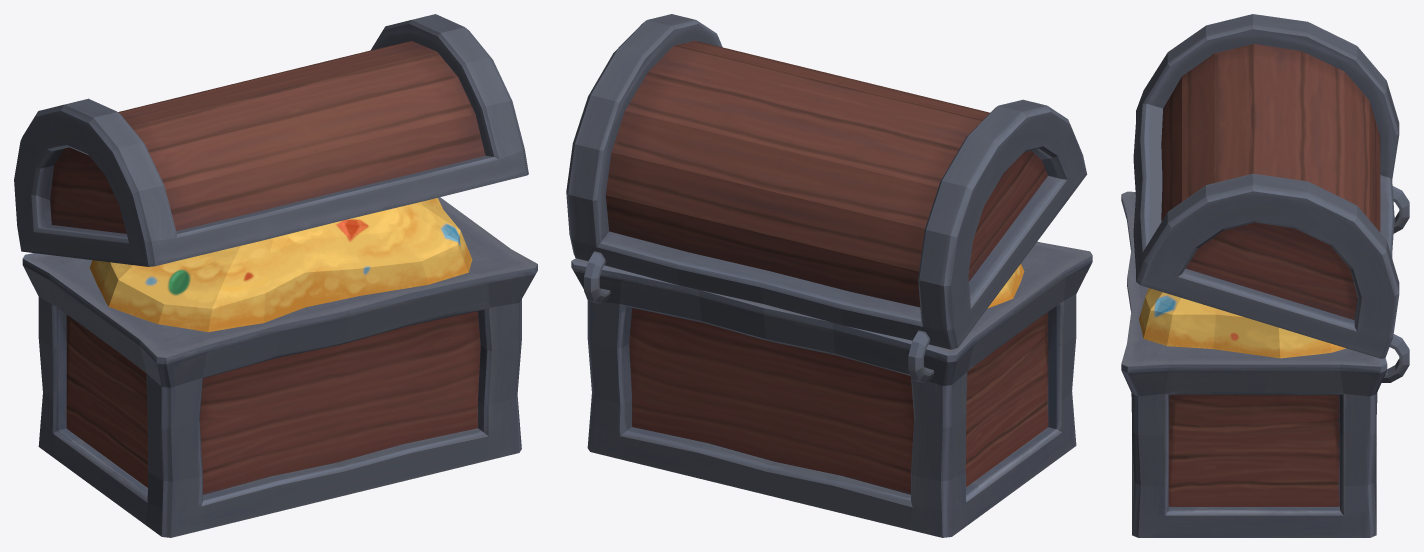
The model's file is Chest.fbx.
The picture shows the model from 3 angles, left to right: view 1: azimuth 30°, elevation 25°; view 2: azimuth 150°, elevation 25°; view 3: azimuth 270°, elevation 25°; orthographic projection. The views are drawn at different scales.
Visible parts, largest first — view 1: Base, Cap; view 2: Cap, Base, Hinge; view 3: Cap, Base, Hinge.
Part boxes in pixels (left/top/right/bottom): Base: left=22, top=197, right=537, bottom=537; Cap: left=14, top=14, right=528, bottom=266; Cap: left=566, top=14, right=1087, bottom=349; Base: left=571, top=241, right=1092, bottom=537; Hinge: left=584, top=251, right=934, bottom=382; Cap: left=1133, top=14, right=1399, bottom=358; Base: left=1121, top=191, right=1387, bottom=537; Hinge: left=1381, top=186, right=1409, bottom=382.
Bounding box in the file's own units: 1939 × 1825 × 1344.
